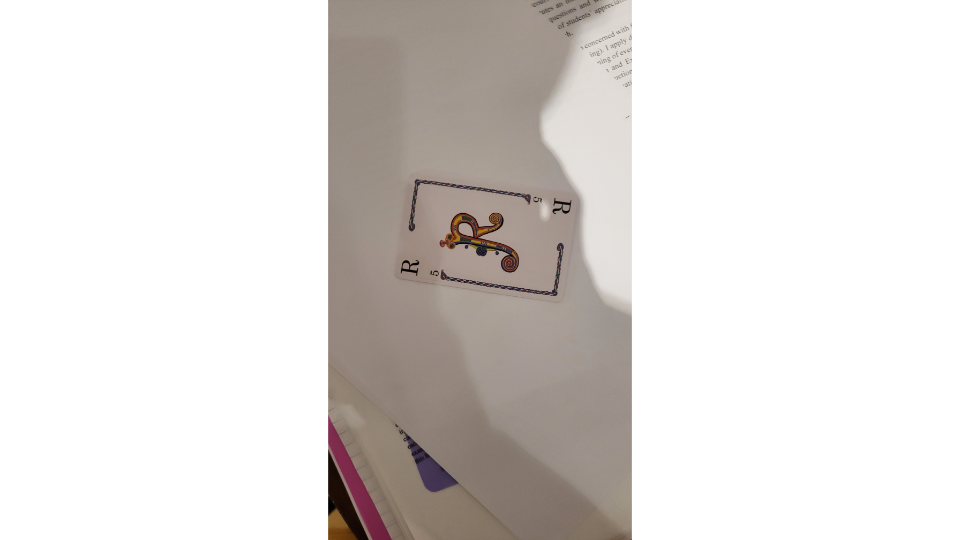R: (390, 169, 584, 307)
